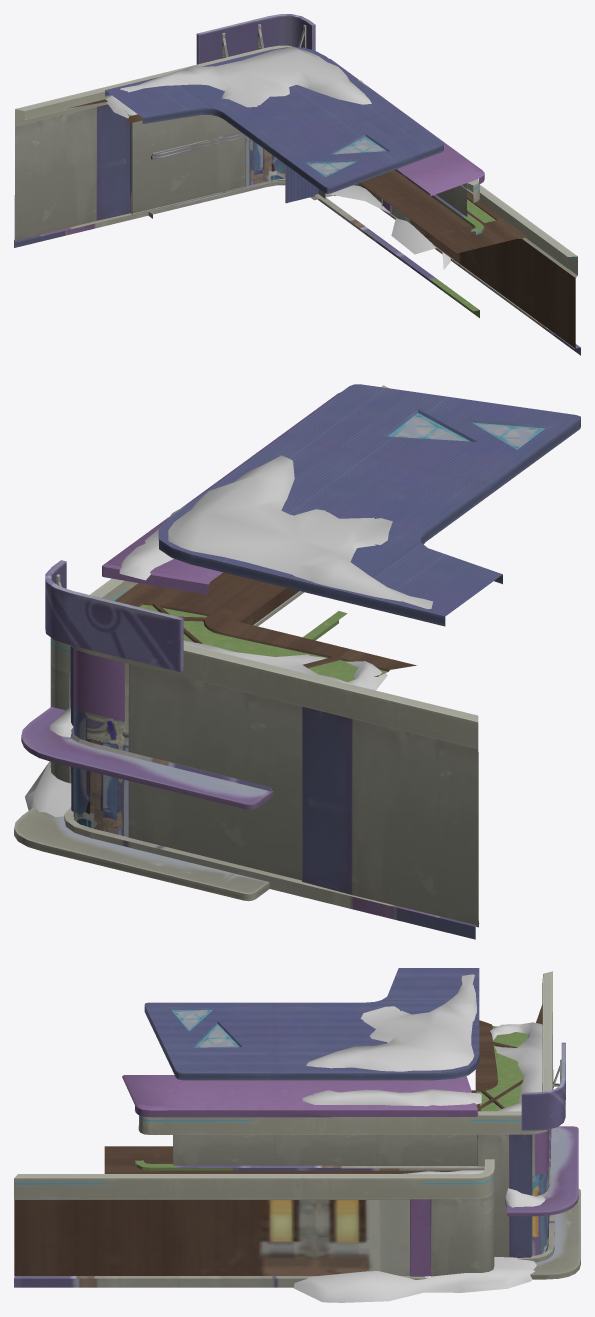
File: pref_sm_city_shop09_snow_lv3.fbx
The picture shows the model from 3 angles, top to bottom: view 1: azimuth 30°, elevation 25°; view 2: azimuth 150°, elevation 25°; view 3: azimuth 270°, elevation 25°; orthographic projection. The views are drawn at different scales.
Parts seen in each view (by area): view 1: sm_city_shop09_snow_lv3, sm_city_shop09b_snow_lv3; view 2: sm_city_shop09_snow_lv3, sm_city_shop09b_snow_lv3; view 3: sm_city_shop09_snow_lv3, sm_city_shop09b_snow_lv3.
Boxes of the visible parts, x1,y1,x2,y2 form: sm_city_shop09_snow_lv3: (14,14,580,355); sm_city_shop09b_snow_lv3: (105,47,450,269); sm_city_shop09_snow_lv3: (14,384,580,939); sm_city_shop09b_snow_lv3: (25,455,433,816); sm_city_shop09_snow_lv3: (14,968,580,1287); sm_city_shop09b_snow_lv3: (293,974,545,1302).
Bounding box in the file's own units: 19.35 × 9.78 × 25.74.
